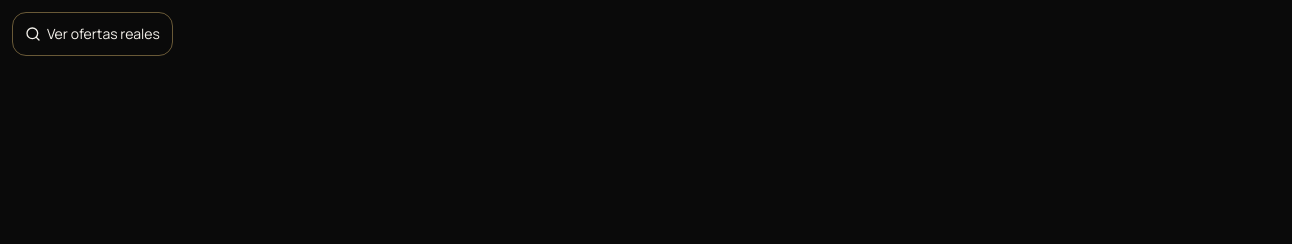
it: ofertas de hotel en MXN › sin tipo de cambio de la cotización: el de la app, con su fuente
The width and height of the screenshot is (1292, 244).
Click the button with test id "hotel-ofertas-ver". click: (92, 34)
box: x1=12 y1=12 x2=173 y2=56
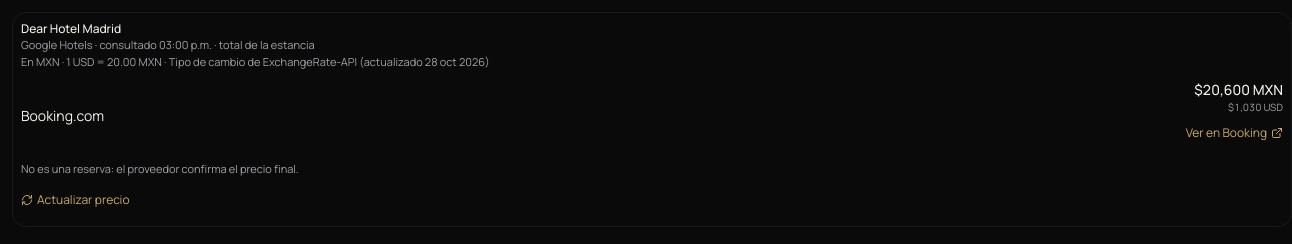
Expected: the text with test id "hotel-oferta-precio" reads "$20,600 MXN", x1=1194 y1=80 x2=1283 y2=99
Expected: the text with test id "hotel-ofertas-tc" shows "1 USD = 20.00 MXN · Tipo de cambio de ExchangeRate-API", x1=66 y1=54 x2=490 y2=68
